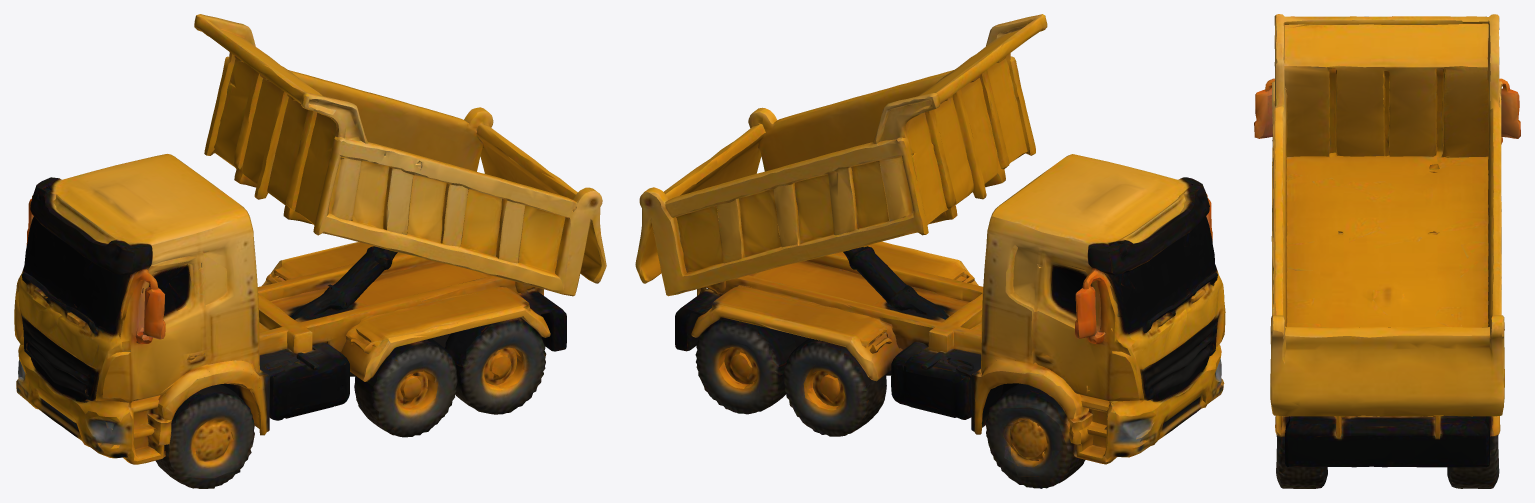
File: parts.glb
The picture shows the model from 3 angles, left to right: view 1: azimuth 30°, elevation 25°; view 2: azimuth 150°, elevation 25°; view 3: azimuth 270°, elevation 25°; orthographic projection.
Size of the model in its own units: 0.38 by 0.2741 by 0.1763.
12 materials, 12 textured.
